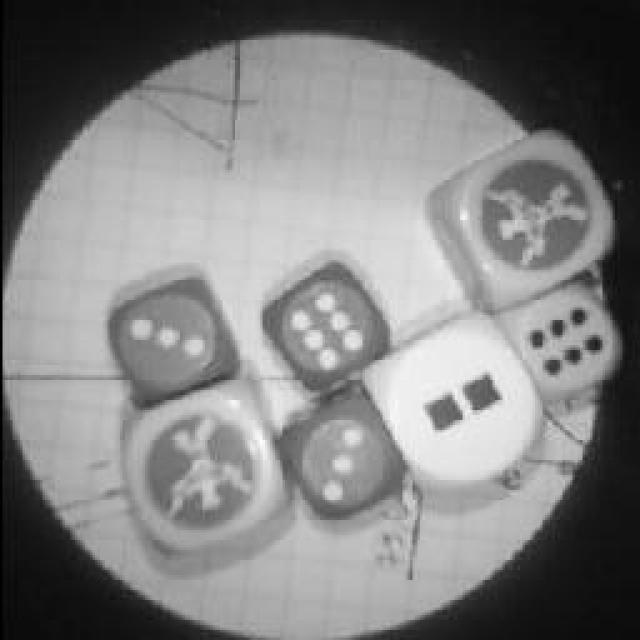dice_3: (268, 377, 410, 525), (98, 270, 240, 408)
dice_6: (253, 253, 395, 395), (492, 275, 630, 410)
